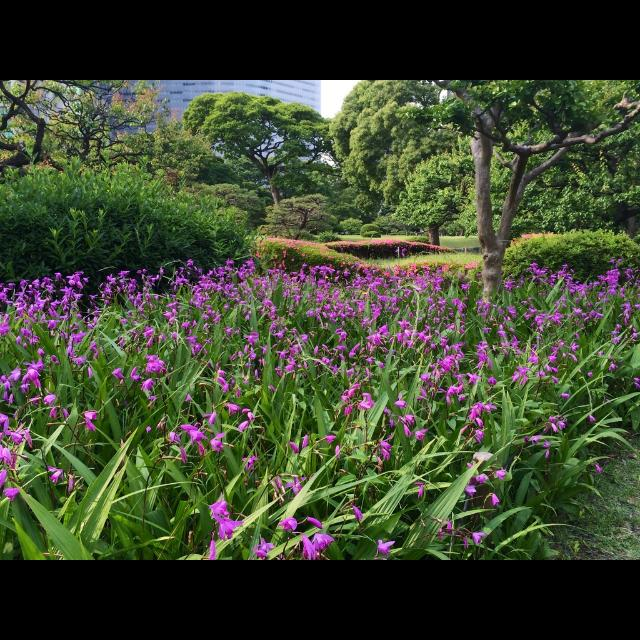Flower: (1, 231, 639, 559), (302, 536, 318, 560)
